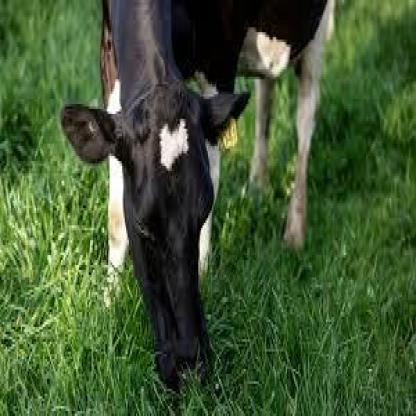cow: (61, 0, 338, 379)
